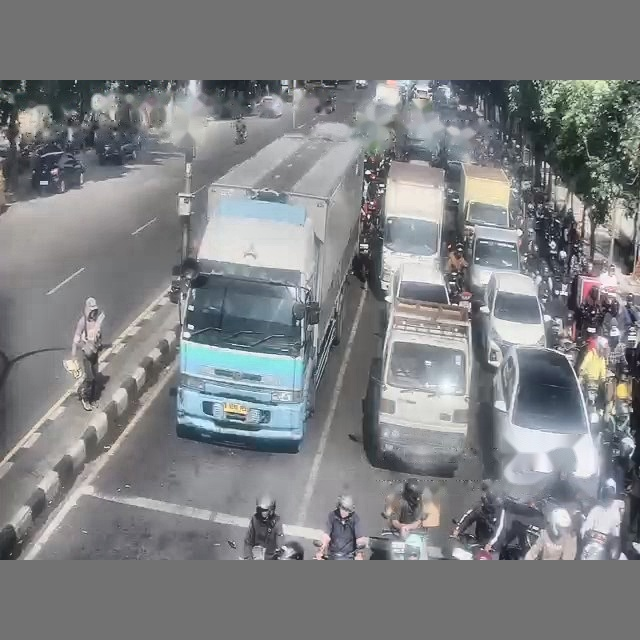Mobil: (493, 346, 599, 493), (480, 272, 548, 366), (468, 225, 519, 297), (385, 262, 450, 317), (31, 145, 85, 193), (96, 131, 139, 164), (258, 95, 283, 117), (413, 80, 432, 99), (355, 80, 369, 89)
Truk: (177, 123, 363, 452), (363, 299, 472, 473), (378, 161, 445, 291), (459, 163, 510, 234)
